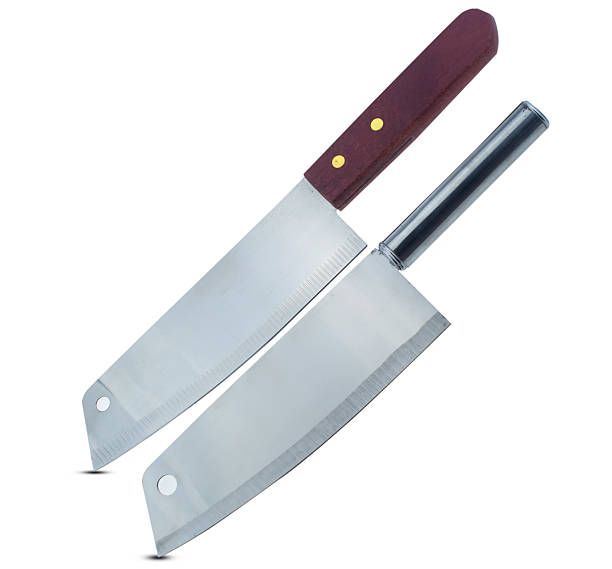knife: (77, 7, 553, 561)
